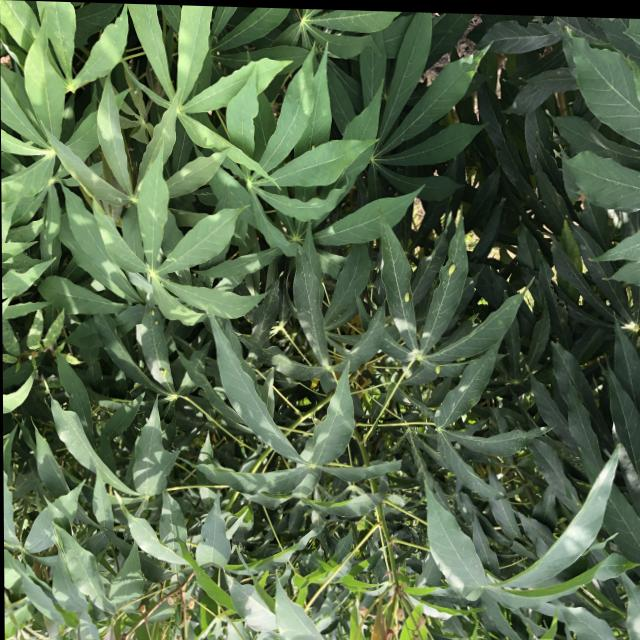Mosca: (142, 295, 171, 327), (427, 356, 450, 381), (402, 286, 424, 306), (447, 258, 463, 279), (151, 355, 167, 375), (416, 328, 433, 345)
